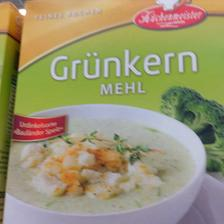Mehl: (3, 0, 223, 220)
